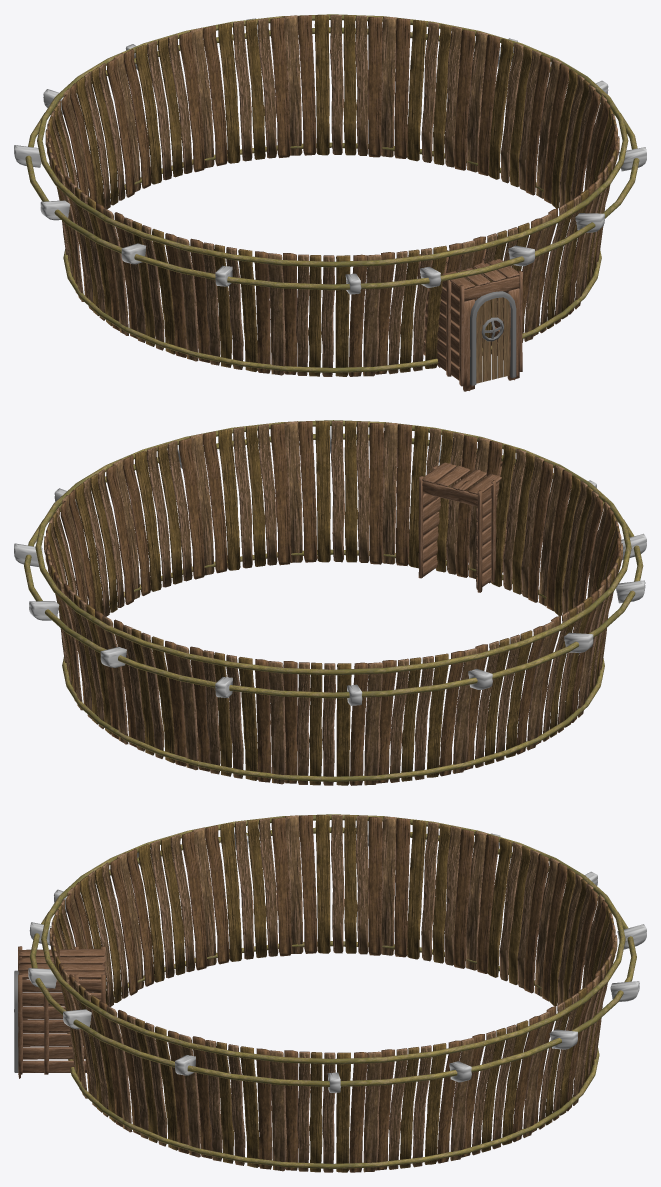
File: SM_center_hut_01.fbx
The picture shows the model from 3 angles, top to bottom: view 1: azimuth 30°, elevation 25°; view 2: azimuth 150°, elevation 25°; view 3: azimuth 270°, elevation 25°; orthographic projection.
Visible parts, largest first — view 1: center_hut_01; view 2: center_hut_01; view 3: center_hut_01.
Part boxes in pixels (x1=…): center_hut_01: x1=14, y1=14, x2=646, y2=391; center_hut_01: x1=14, y1=420, x2=646, y2=785; center_hut_01: x1=14, y1=814, x2=646, y2=1172.
Size of the model in its own units: 1765 by 413 by 1790.
